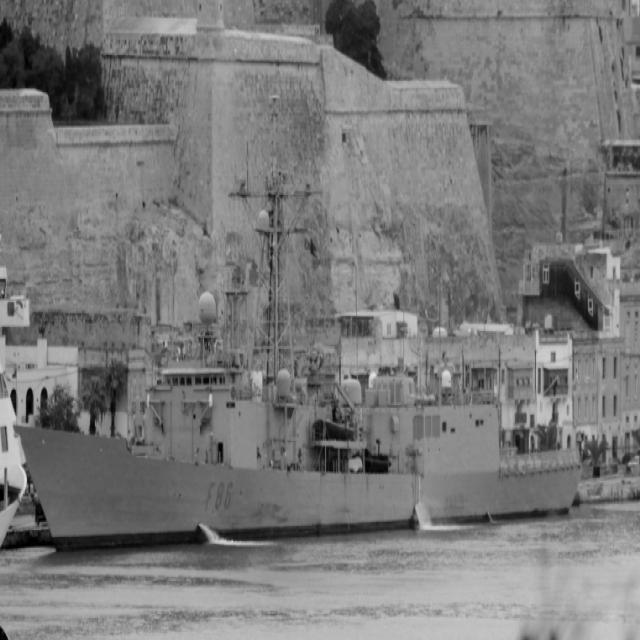Fragata: (10, 92, 592, 563)
